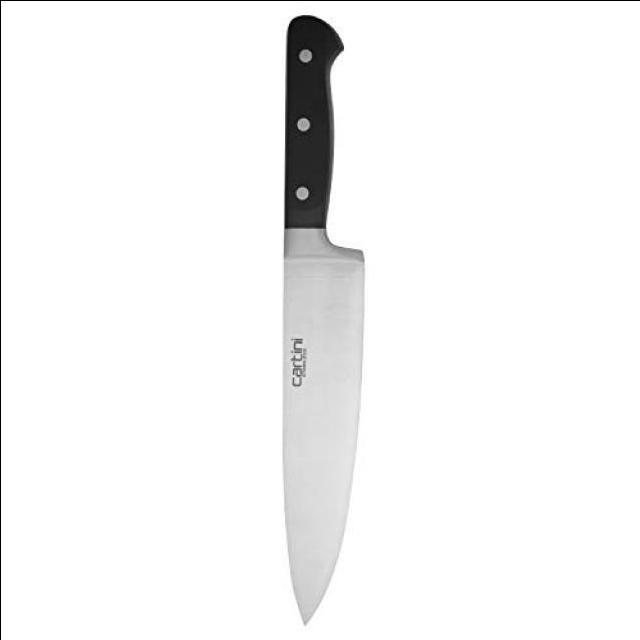knife: (242, 1, 375, 637)
